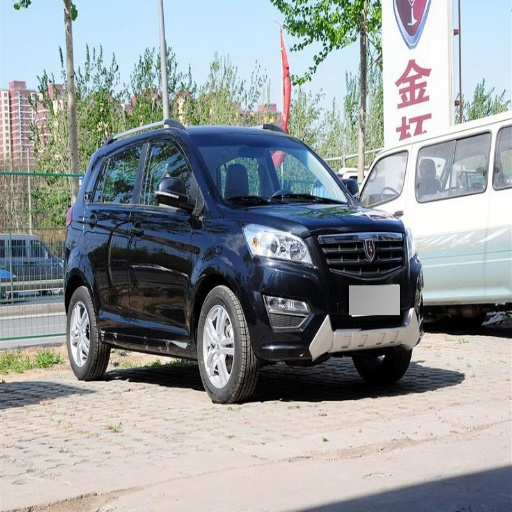front_bumper: (246, 227, 421, 366)
front_right_door: (129, 132, 201, 329)
front_right_light: (244, 225, 314, 265)
hood: (248, 202, 398, 233)
